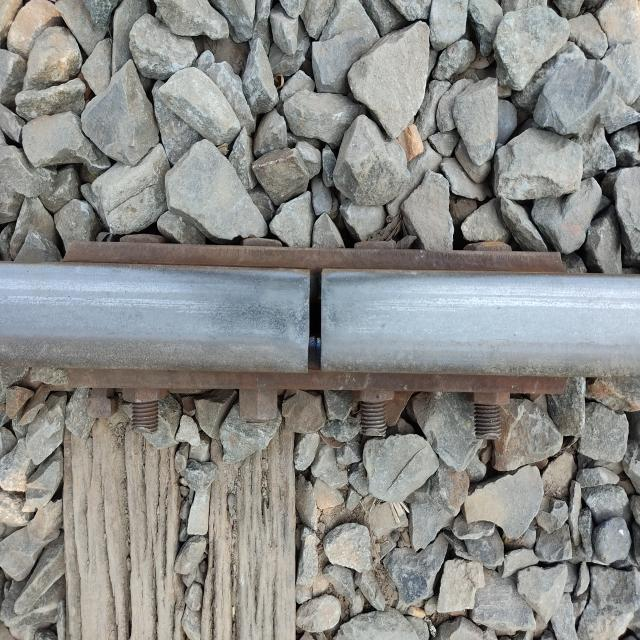Faults: (300, 260, 334, 380)
